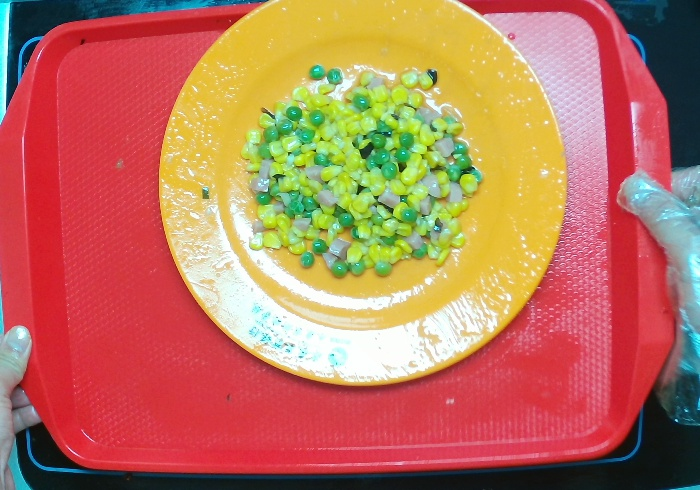YKMZ-Ju_Se_Mian_Pan: (153, 1, 574, 390)
